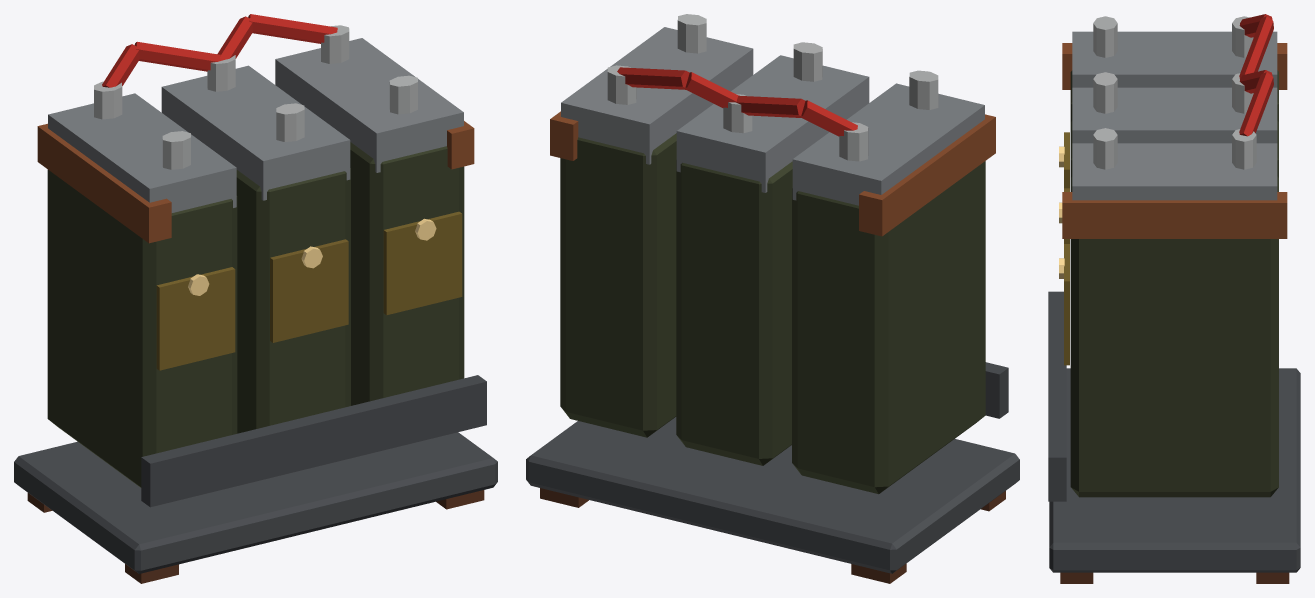
File: piece_battery.fbx
3 views of the same model, side by side, from view 1: azimuth 30°, elevation 25°; view 2: azimuth 150°, elevation 25°; view 3: azimuth 270°, elevation 25° (orthographic). The views are drawn at different scales.
Visible parts, largest first — view 1: piece_battery; view 2: piece_battery; view 3: piece_battery.
Boxes of the visible parts, left/top/right/bottom form: piece_battery: left=14, top=14, right=497, bottom=583; piece_battery: left=526, top=14, right=1019, bottom=583; piece_battery: left=1048, top=14, right=1300, bottom=583.
Bounding box in the file's own units: 0.96 × 1.12 × 0.5719.
